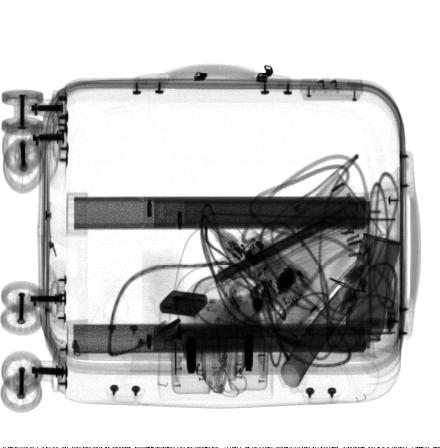Lighter: (159, 290, 208, 318)
